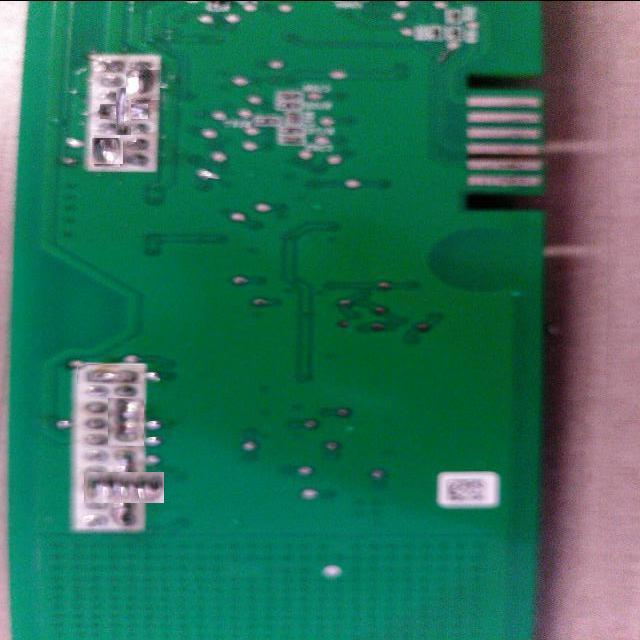Short_circuit: (96, 459, 152, 515), (108, 398, 144, 446), (77, 364, 144, 384), (126, 70, 160, 100), (108, 96, 140, 127), (92, 136, 121, 166)
